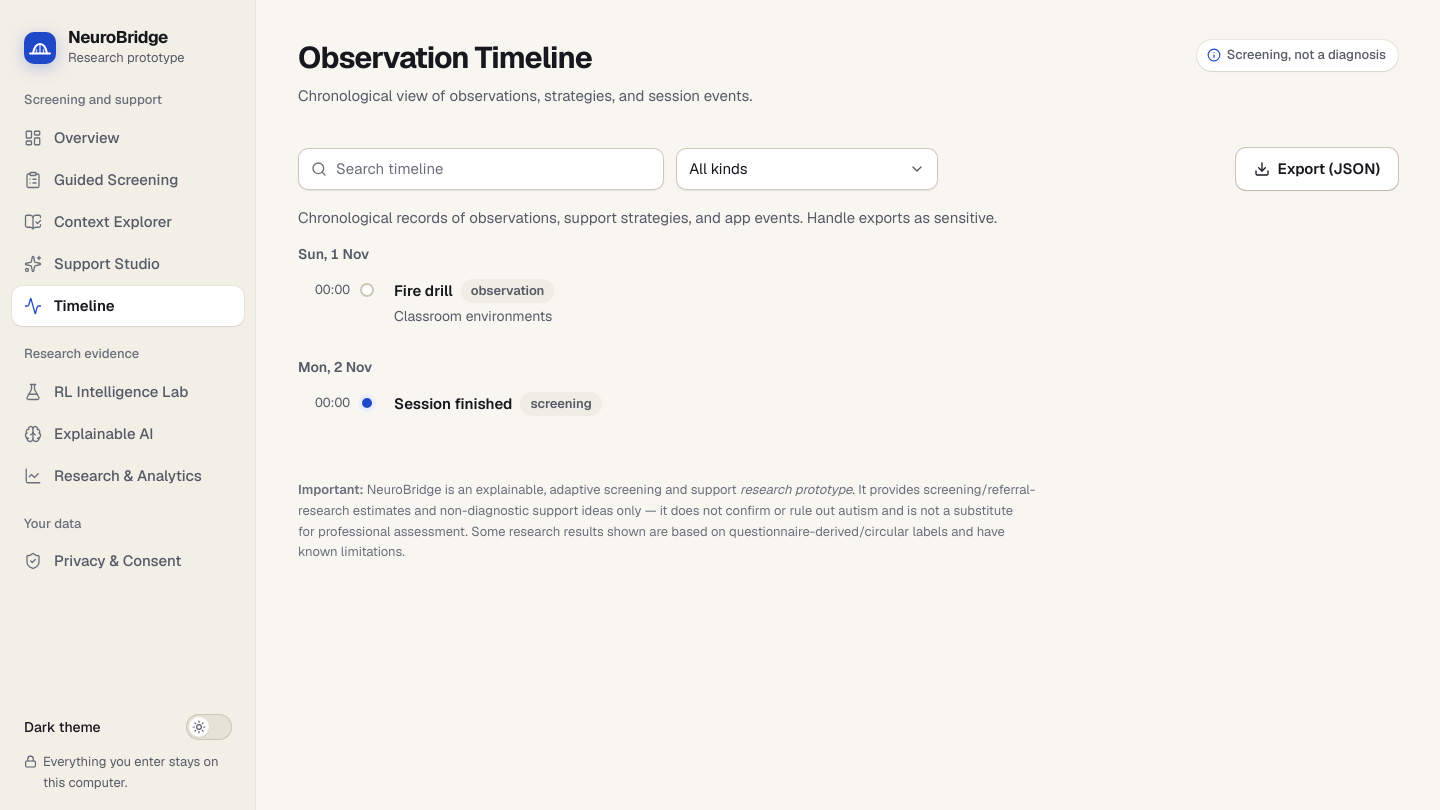
it: Timeline › filters by kind and by search text
The width and height of the screenshot is (1440, 810).
Expected: the text "Fire drill" is shown, [394, 281, 453, 300]
Step 1. Select "screening" in the dropdown named "Filter by kind" → (807, 169), box [676, 148, 938, 190]
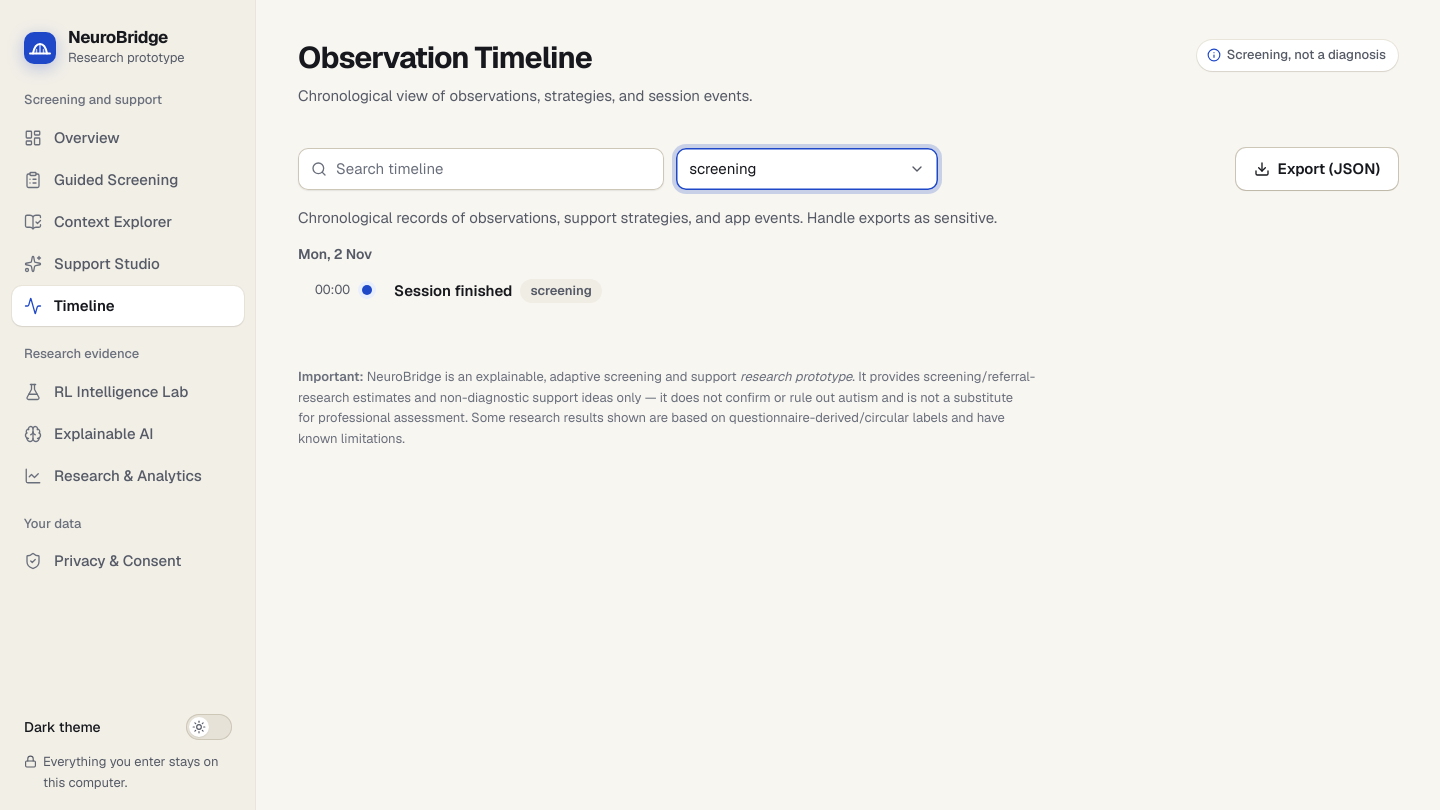
Expected: the text "Session finished" is shown, [394, 281, 512, 300]
Expected: the text "Fire drill" is gone
Step 2. Select "All kinds" in the dropdown named "Filter by kind" → (807, 169), box [676, 148, 938, 190]
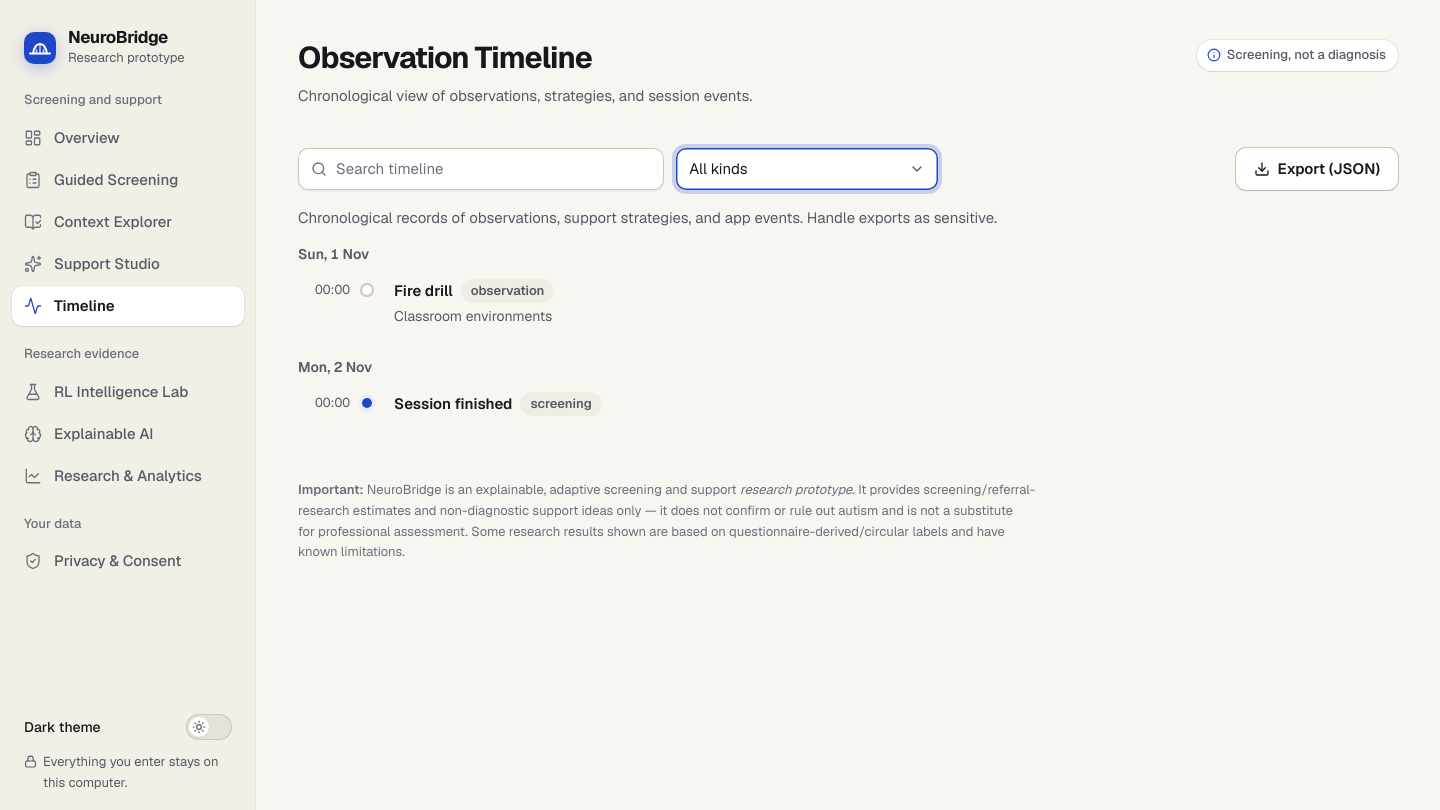
Step 3. Type "nothing-matches" into the search field labelled "Search timeline" → (481, 169), box [298, 148, 664, 190]
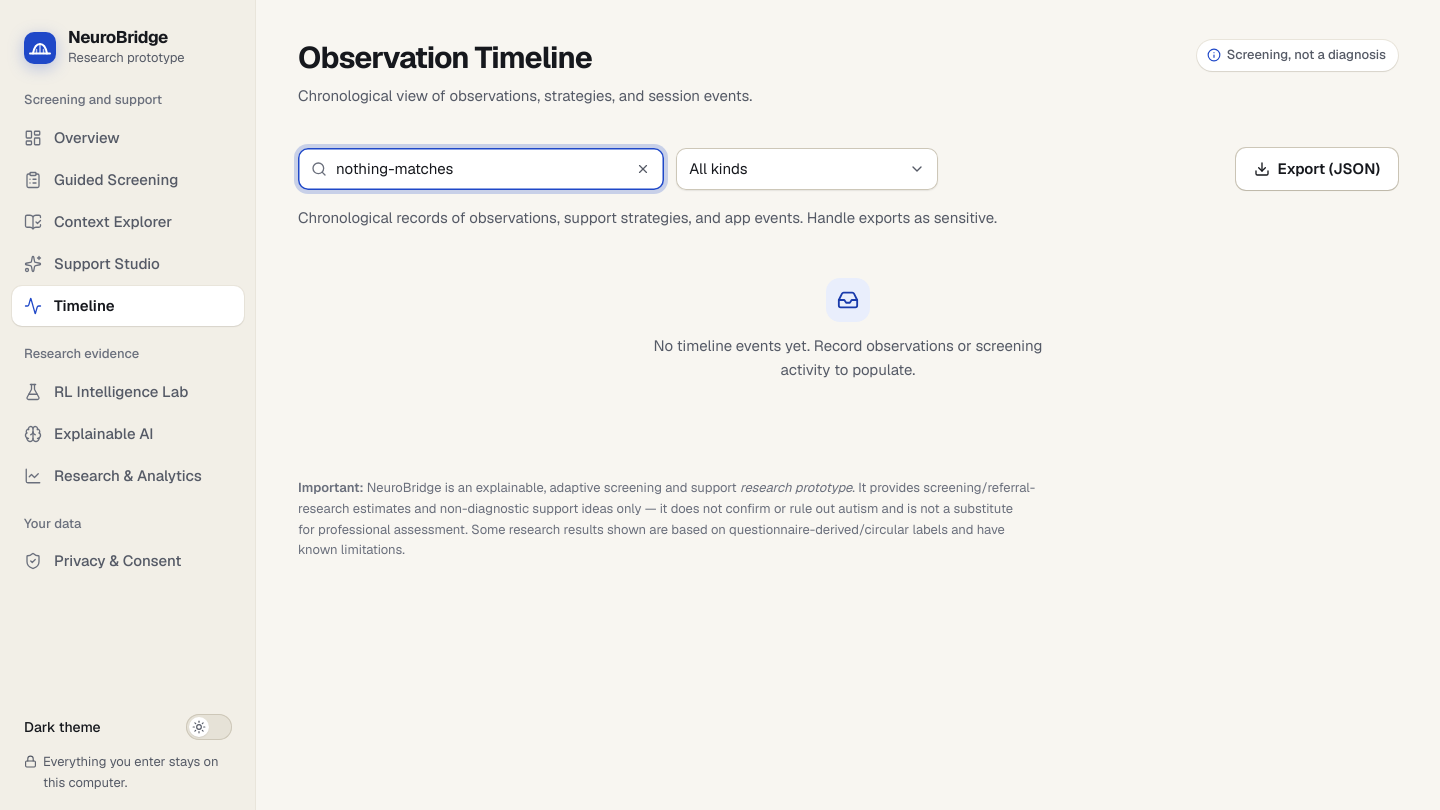
Expected: the text "No timeline events yet" is shown, [654, 336, 1043, 379]
